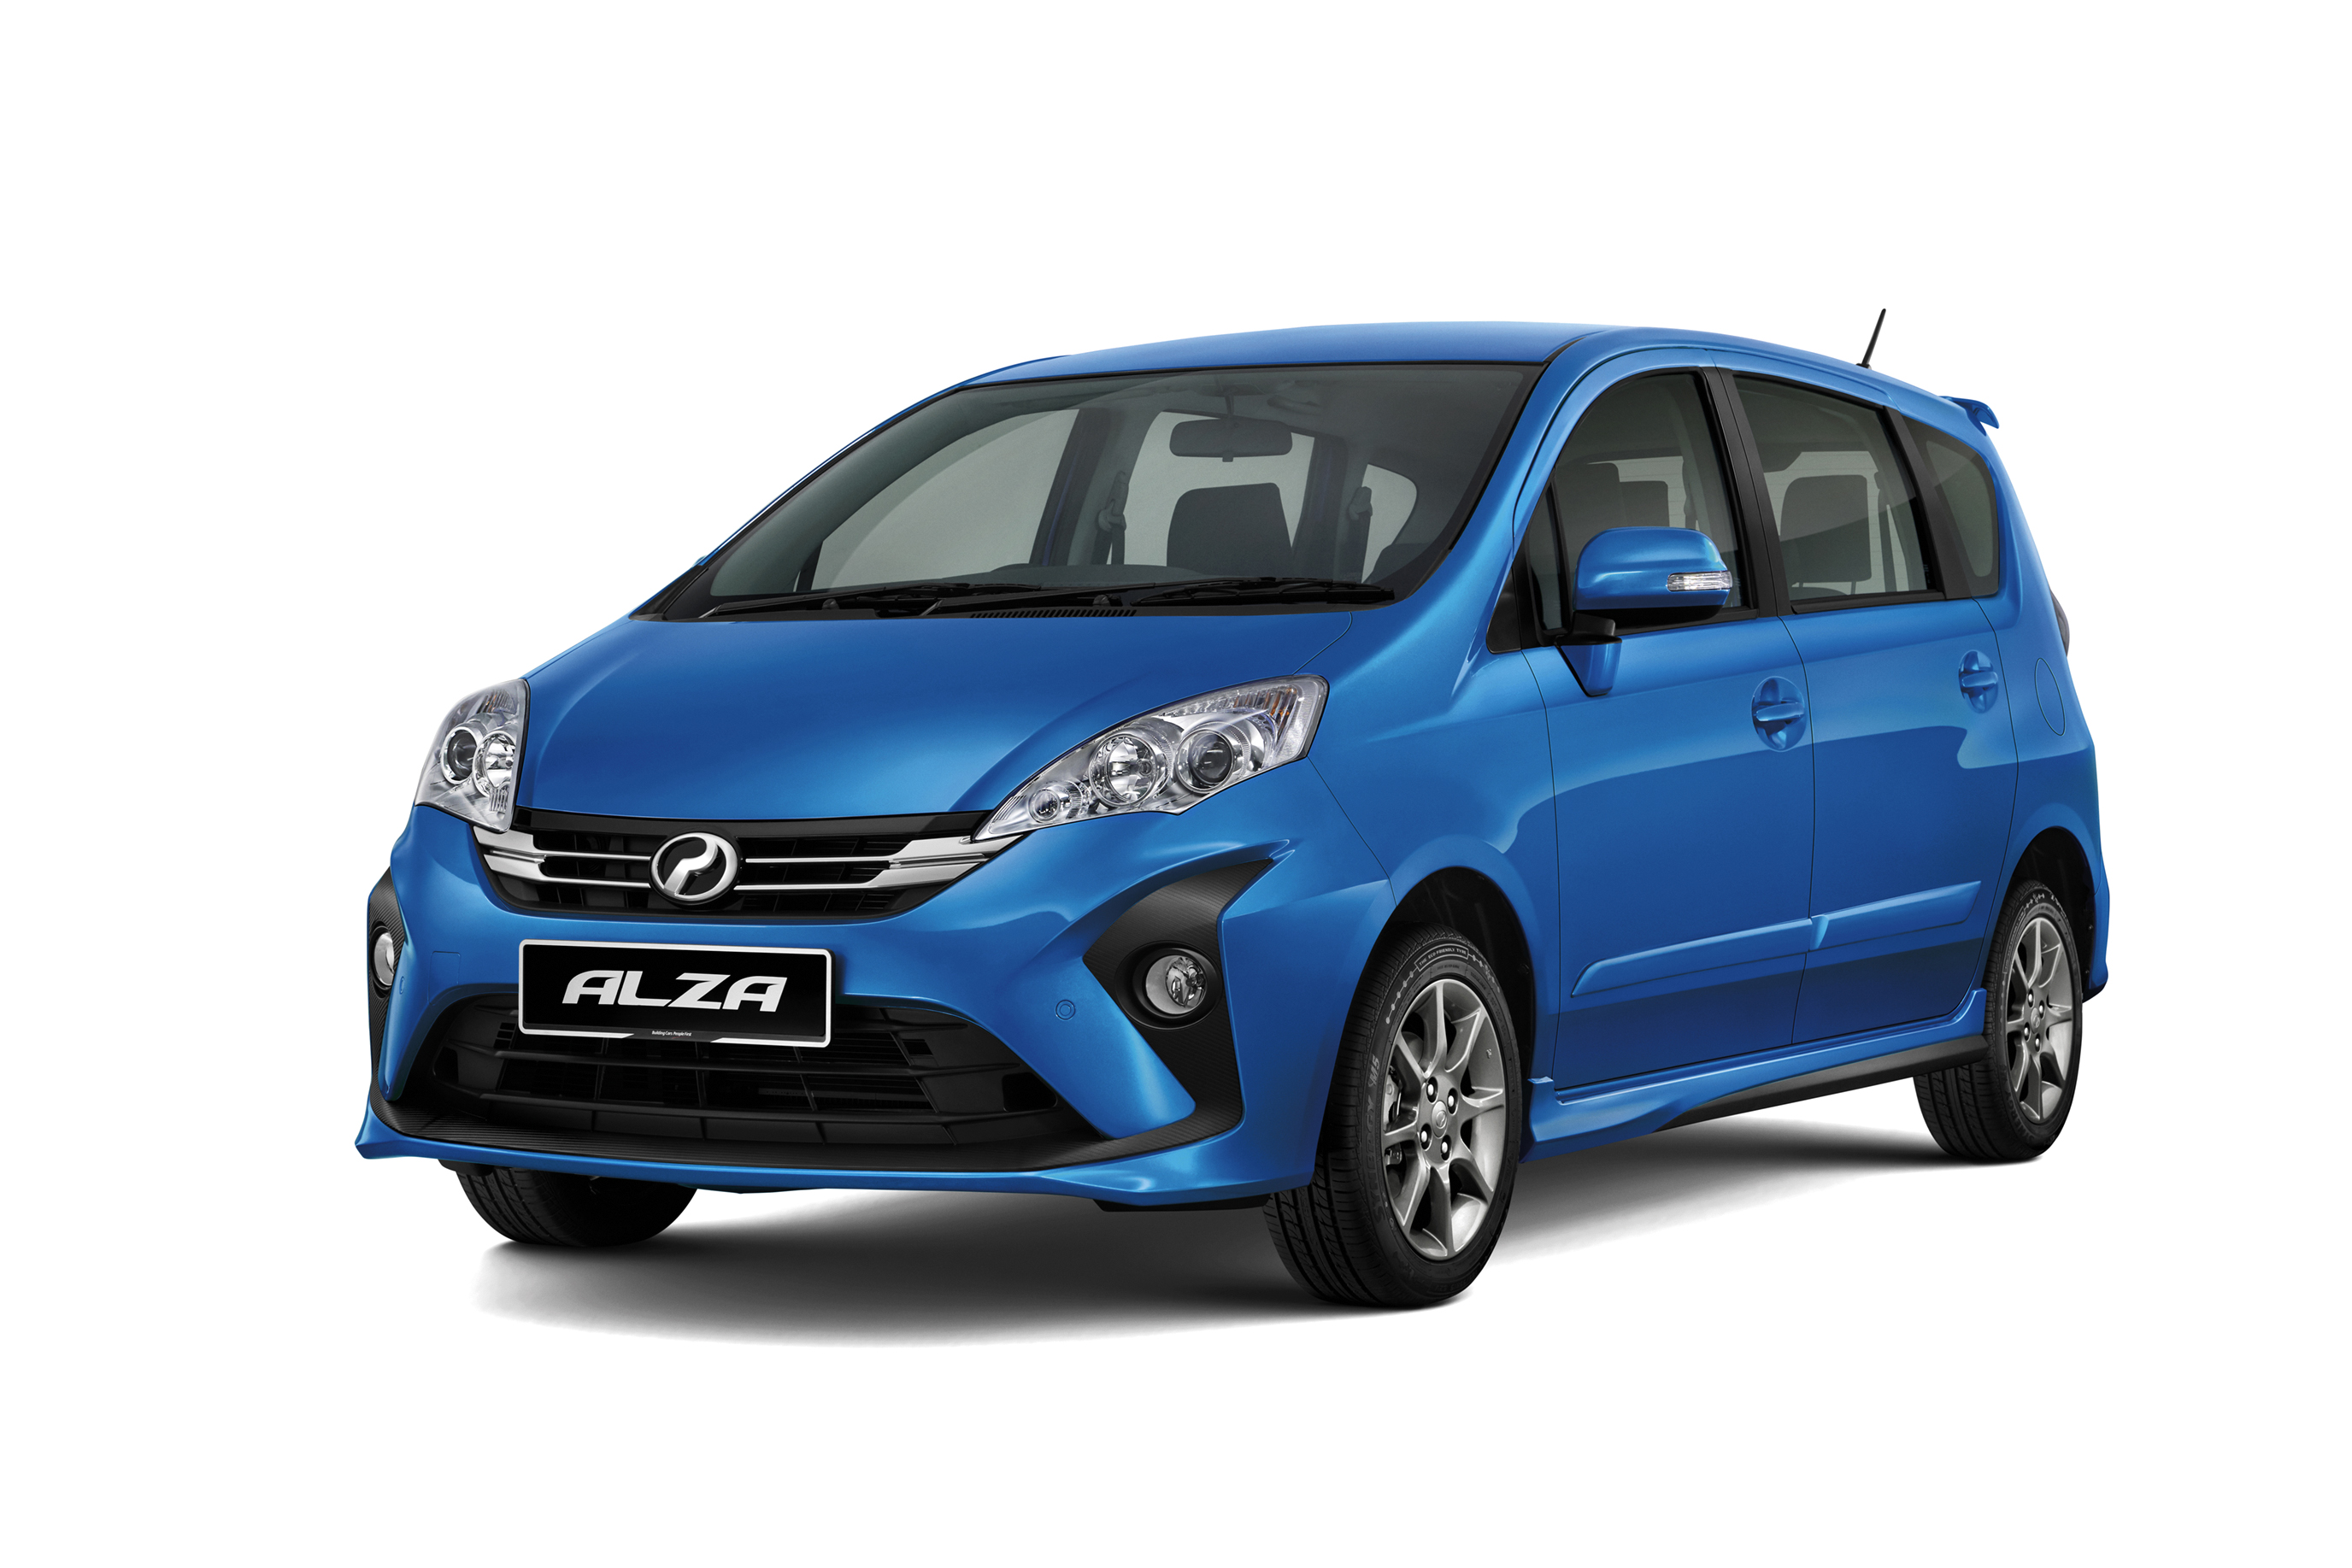car: (353, 319, 2110, 1312)
